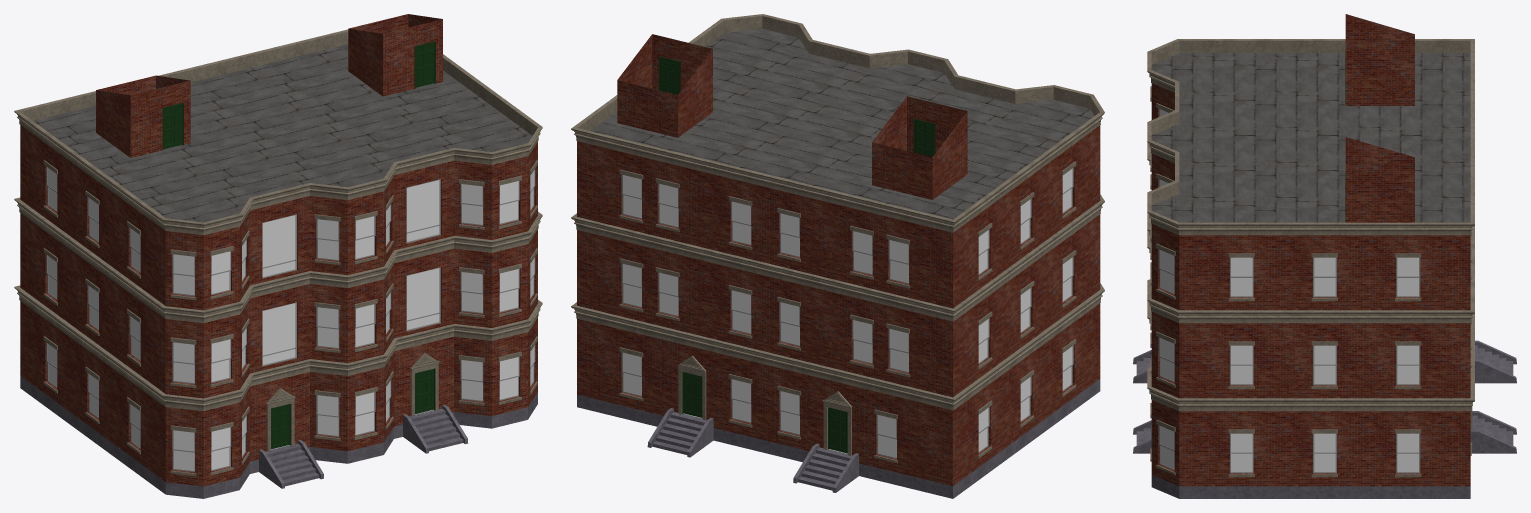
The model's file is Building_22.fbx.
3 renders of one model, left to right at view 1: azimuth 30°, elevation 25°; view 2: azimuth 150°, elevation 25°; view 3: azimuth 270°, elevation 25°, orthographic.
Visible parts, largest first — view 1: Building_21_LOD0; view 2: Building_21_LOD0; view 3: Building_21_LOD0.
Part boxes in pixels (x1,y1,x2,y2): Building_21_LOD0: (14, 14, 542, 498); Building_21_LOD0: (571, 14, 1104, 498); Building_21_LOD0: (1133, 14, 1516, 498).
Size of what is drawn, in the model's own units: 1928 by 1585 by 1687.
